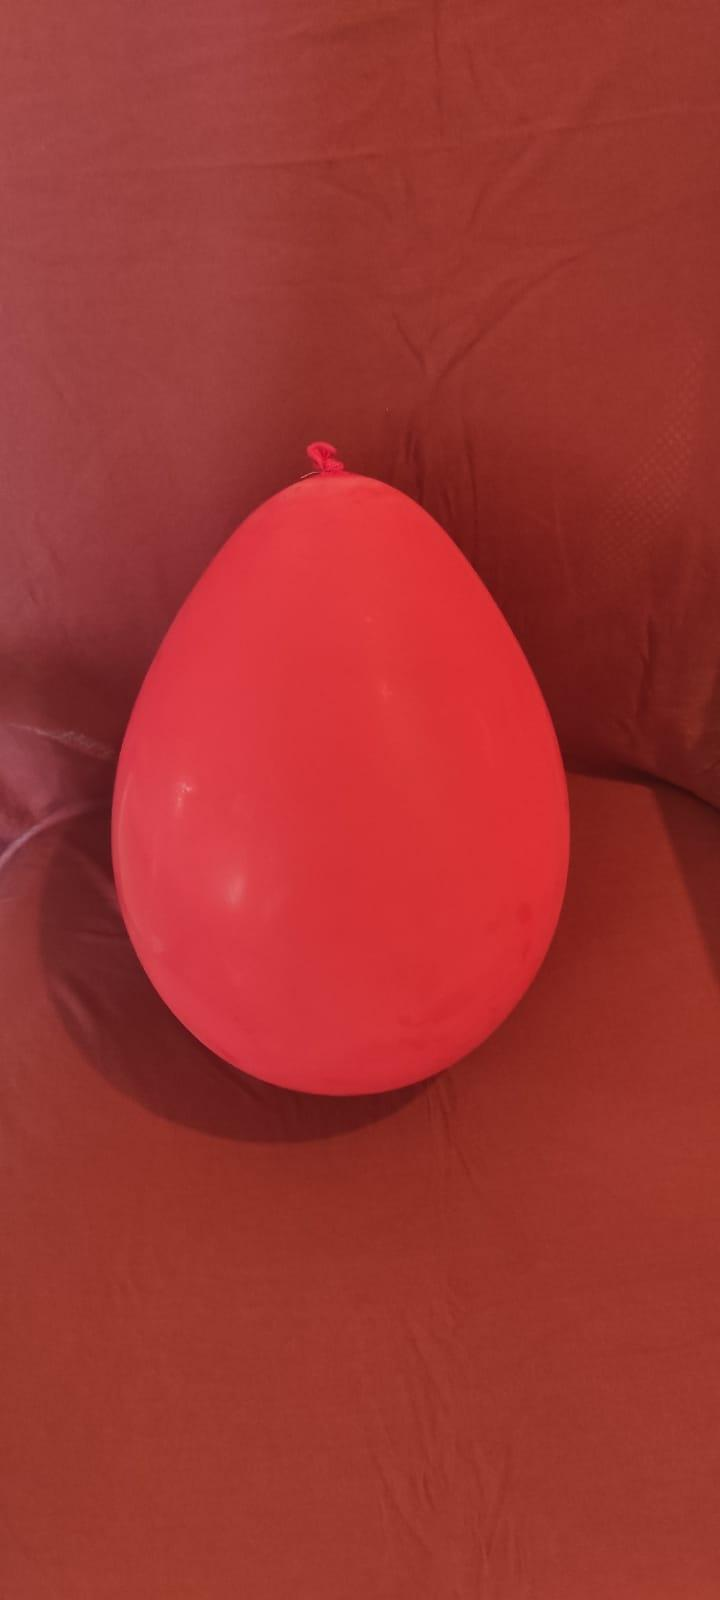red: (111, 431, 577, 1093)
